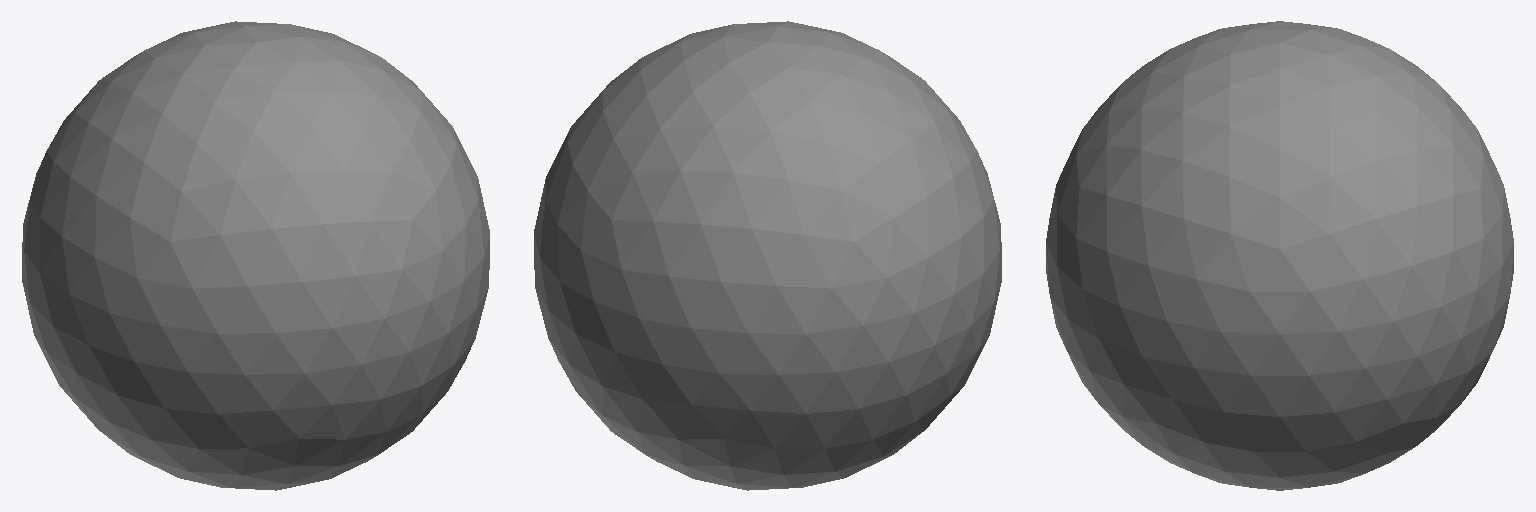
Rendered from mercury.obj.
3 renders of one model, left to right at view 1: azimuth 30°, elevation 25°; view 2: azimuth 150°, elevation 25°; view 3: azimuth 270°, elevation 25°, orthographic.
Visible parts, largest first — view 1: GeoSphere004; view 2: GeoSphere004; view 3: GeoSphere004.
Part boxes in pixels (x1,y1,x2,y2): GeoSphere004: (22,21,489,490); GeoSphere004: (534,21,1001,490); GeoSphere004: (1046,21,1513,490).
Bounding box in the file's own units: 11087 × 11140 × 11072.